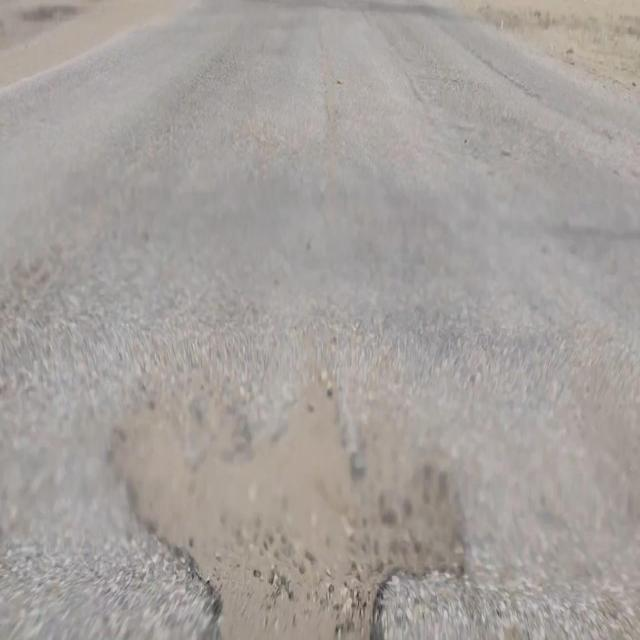Potholes: (103, 358, 476, 634)
